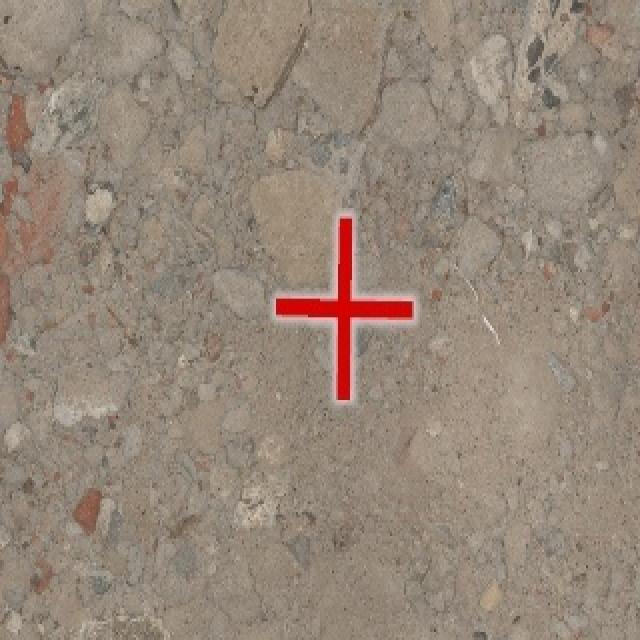x_marker: (275, 214, 413, 398)
